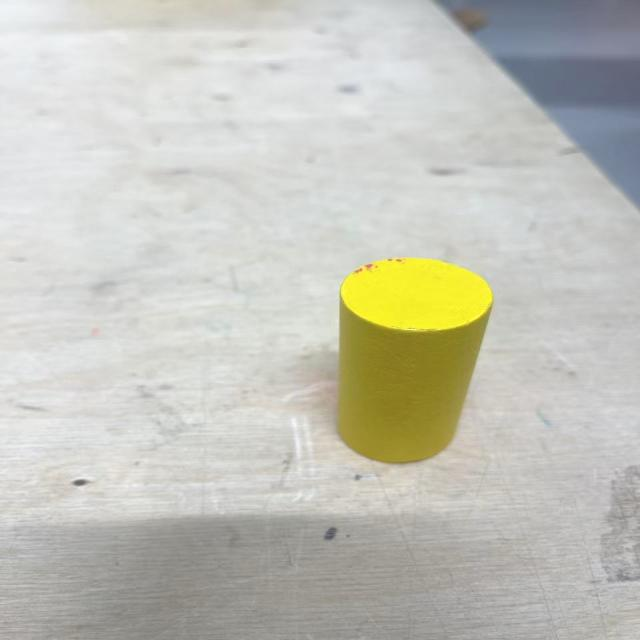yellow_cylinder: (333, 254, 491, 467)
